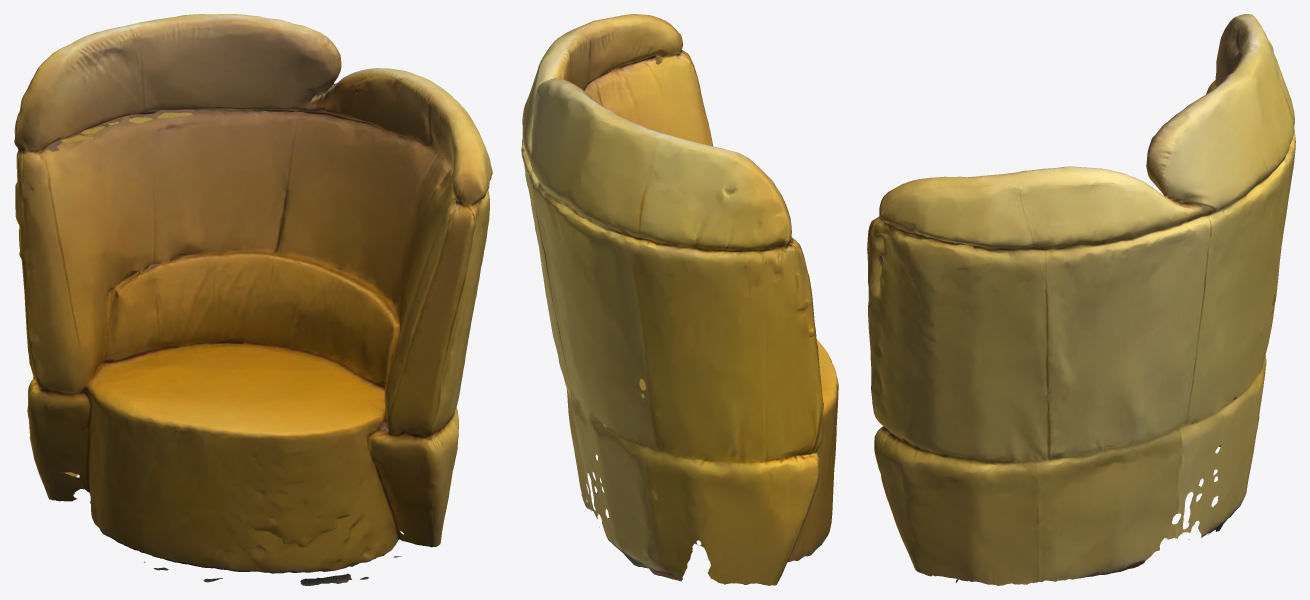
File: Oba.glb
3 views of the same model, side by side, from view 1: azimuth 30°, elevation 25°; view 2: azimuth 150°, elevation 25°; view 3: azimuth 270°, elevation 25° (orthographic). The views are drawn at different scales.
Visible parts, largest first — view 1: unnamed_n3d4; view 2: unnamed_n3d4; view 3: unnamed_n3d4.
Boxes of the visible parts, left/top/right/bottom form: unnamed_n3d4: left=14, top=14, right=492, bottom=585; unnamed_n3d4: left=521, top=14, right=838, bottom=585; unnamed_n3d4: left=867, top=14, right=1295, bottom=585.
Bounding box in the file's own units: 1.32 × 1.65 × 1.34.
Materials: 1 (1 with a texture image).
